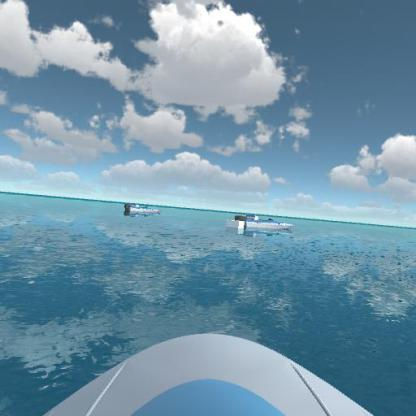usv1: (233, 209, 298, 236), (122, 199, 165, 219)
